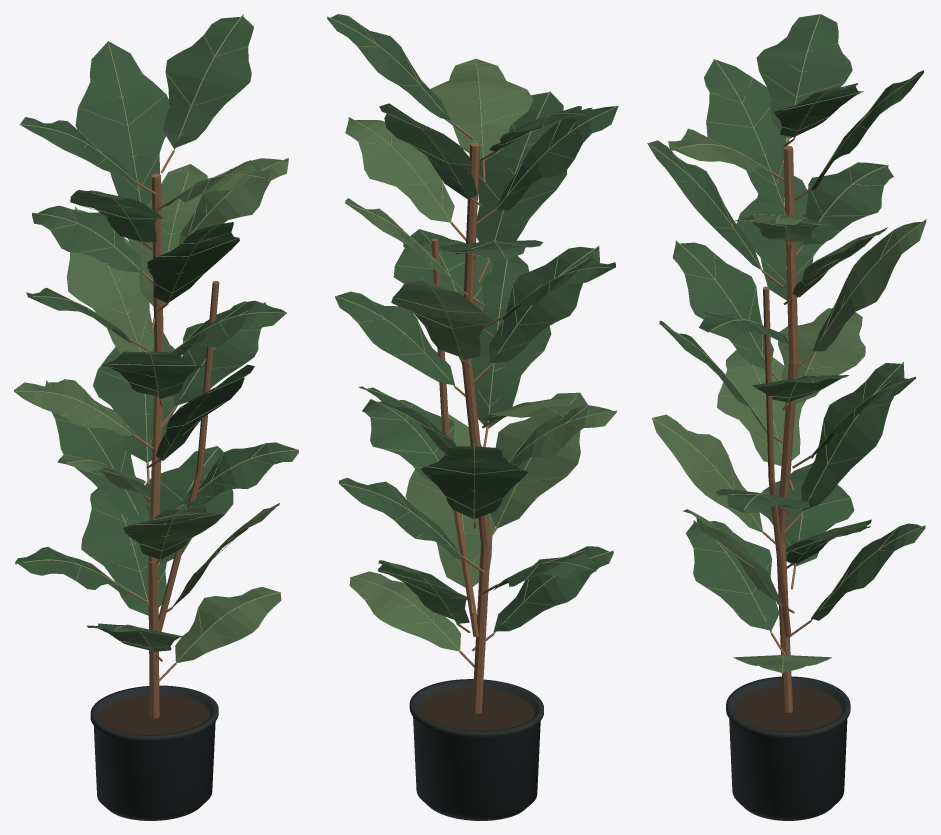
Rendered from fiddle-leaf.glb.
The picture shows the model from 3 angles, left to right: view 1: azimuth 30°, elevation 25°; view 2: azimuth 150°, elevation 25°; view 3: azimuth 270°, elevation 25°; orthographic projection. The views are drawn at different scales.
Visible parts, largest first — view 1: fiddle-leaf; view 2: fiddle-leaf; view 3: fiddle-leaf.
Boxes of the visible parts, bbox=[...] form: fiddle-leaf: bbox=[14, 14, 298, 820]; fiddle-leaf: bbox=[327, 14, 618, 820]; fiddle-leaf: bbox=[647, 14, 926, 820].
Bounding box in the file's own units: 0.8 × 2.19 × 0.72.
